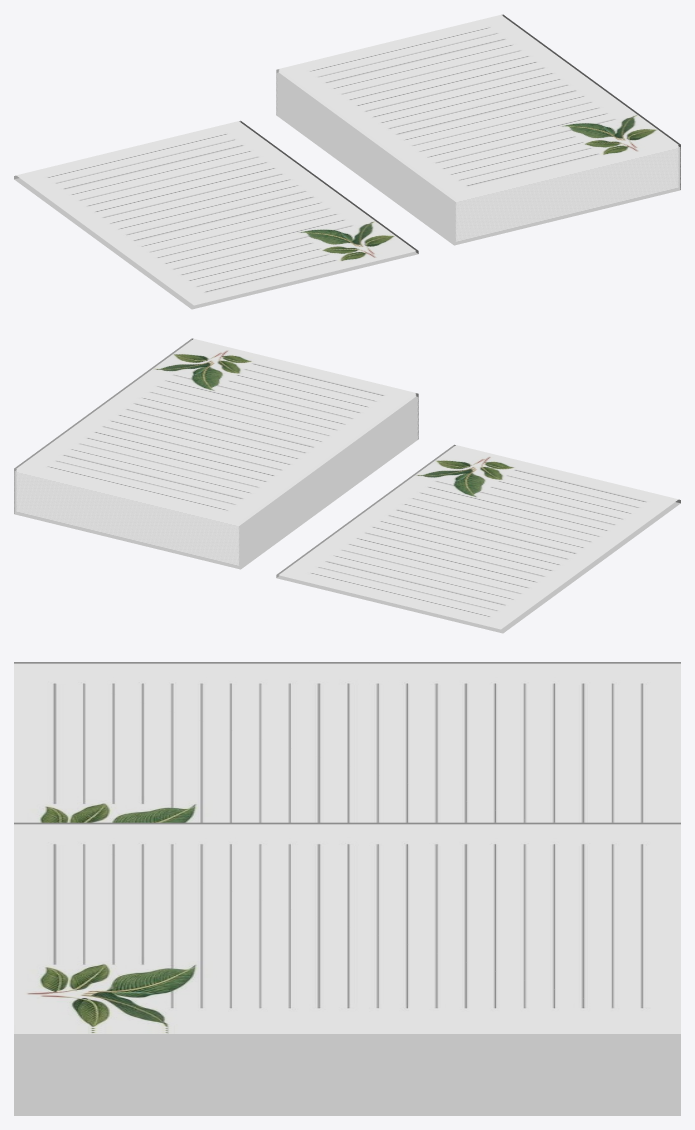
File: stiky.glb
The picture shows the model from 3 angles, top to bottom: view 1: azimuth 30°, elevation 25°; view 2: azimuth 150°, elevation 25°; view 3: azimuth 270°, elevation 25°; orthographic projection. The views are drawn at different scales.
Parts seen in each view (by area): view 1: 242ff4f1a82cc3295fd943c85a21807a, 242ff4f1a82cc3295fd943c85a21807a.001; view 2: 242ff4f1a82cc3295fd943c85a21807a, 242ff4f1a82cc3295fd943c85a21807a.001; view 3: 242ff4f1a82cc3295fd943c85a21807a, 242ff4f1a82cc3295fd943c85a21807a.001.
Part boxes in pixels (x1,y1,x2,y2): 242ff4f1a82cc3295fd943c85a21807a: (276, 14, 680, 245); 242ff4f1a82cc3295fd943c85a21807a.001: (14, 120, 418, 309); 242ff4f1a82cc3295fd943c85a21807a: (14, 338, 418, 569); 242ff4f1a82cc3295fd943c85a21807a.001: (276, 444, 680, 633); 242ff4f1a82cc3295fd943c85a21807a: (14, 822, 680, 1115); 242ff4f1a82cc3295fd943c85a21807a.001: (14, 662, 680, 822).
Size of the model in its own units: 1.58 by 0.1418 by 0.9977.
Materials: 2 (2 with a texture image).
